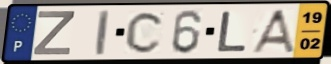6: (170, 7, 204, 56)
A: (248, 8, 297, 54)
C: (123, 10, 167, 55)
I: (95, 8, 111, 57)
L: (215, 10, 249, 53)
Z: (31, 10, 77, 57)
